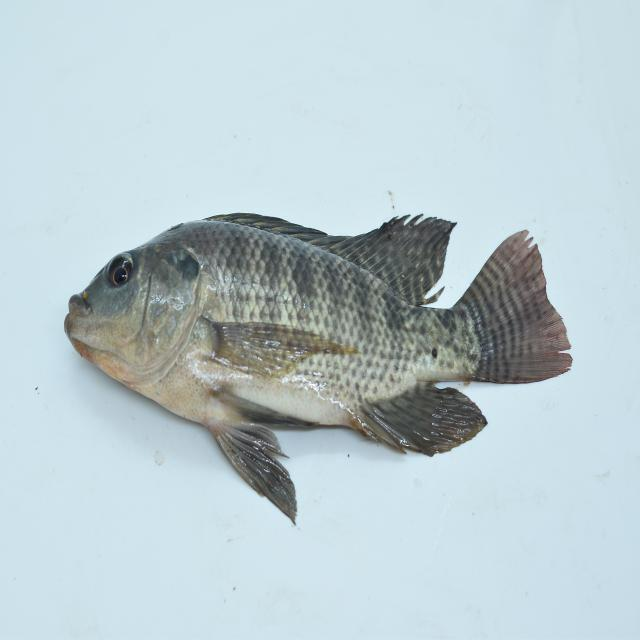Healthy Fish: (62, 209, 576, 525)
